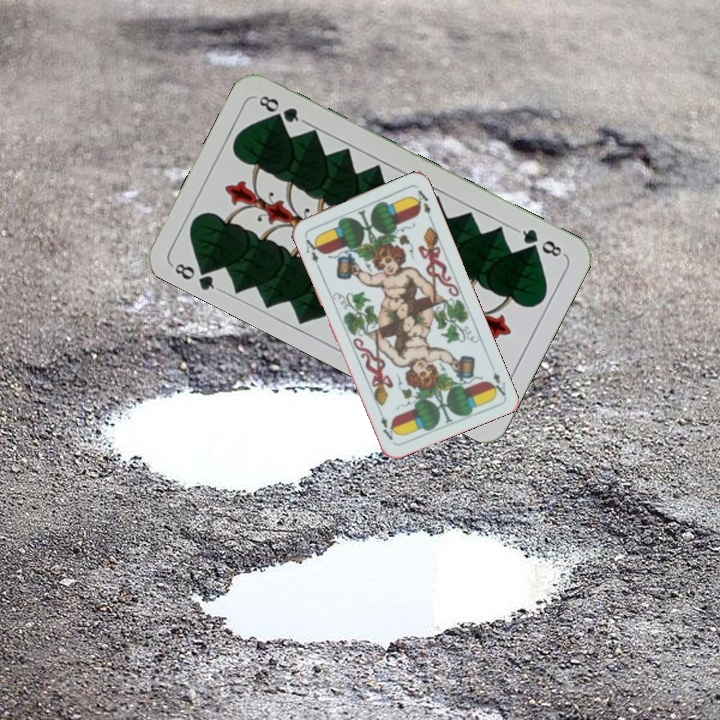EA: (301, 235, 324, 271), (486, 368, 508, 399)
G8: (167, 258, 223, 294), (512, 225, 567, 260)
